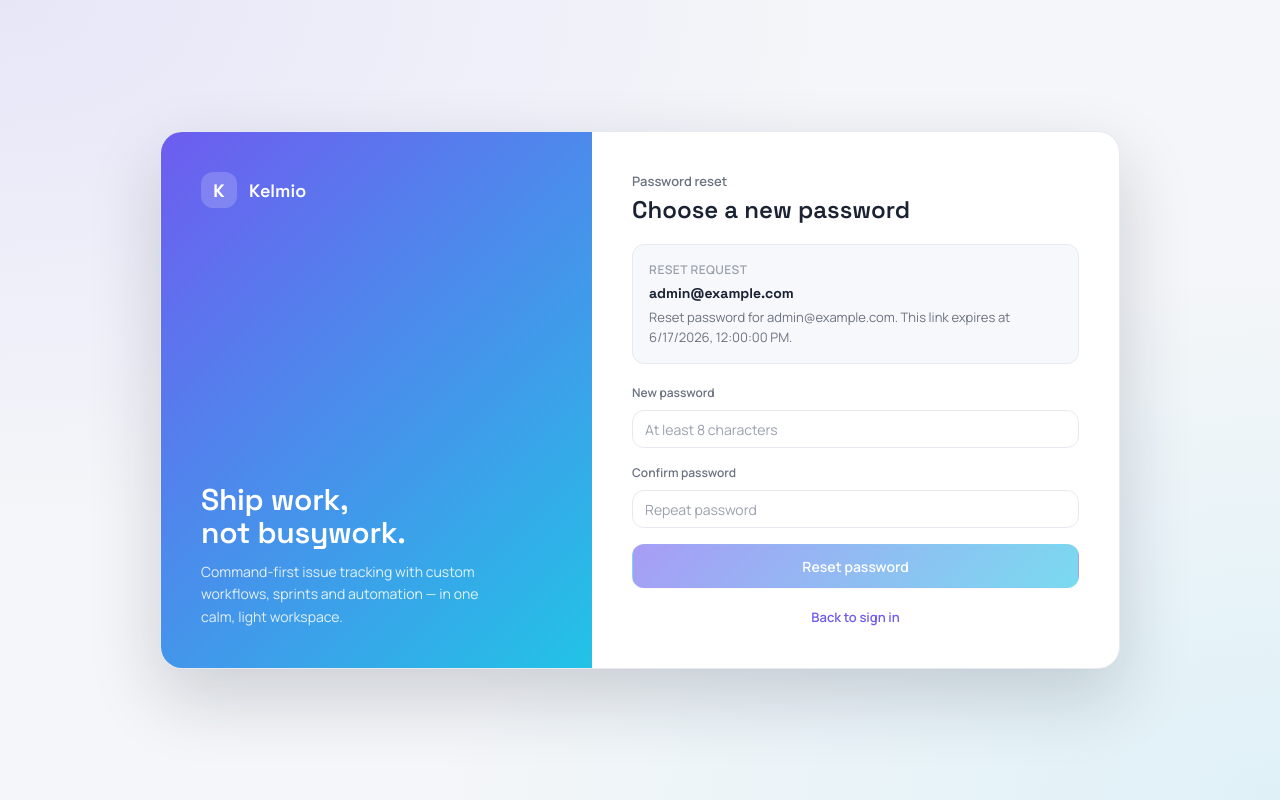
Scenario: reset password screen loads preview and validates password confirmation
The image size is (1280, 800).
Expected: the text "admin@example.com" is shown, [649,284,794,302]
Step 1. Type "new-password" into the password field labelled "New password" → point(856, 429), box [632,410,1079,448]
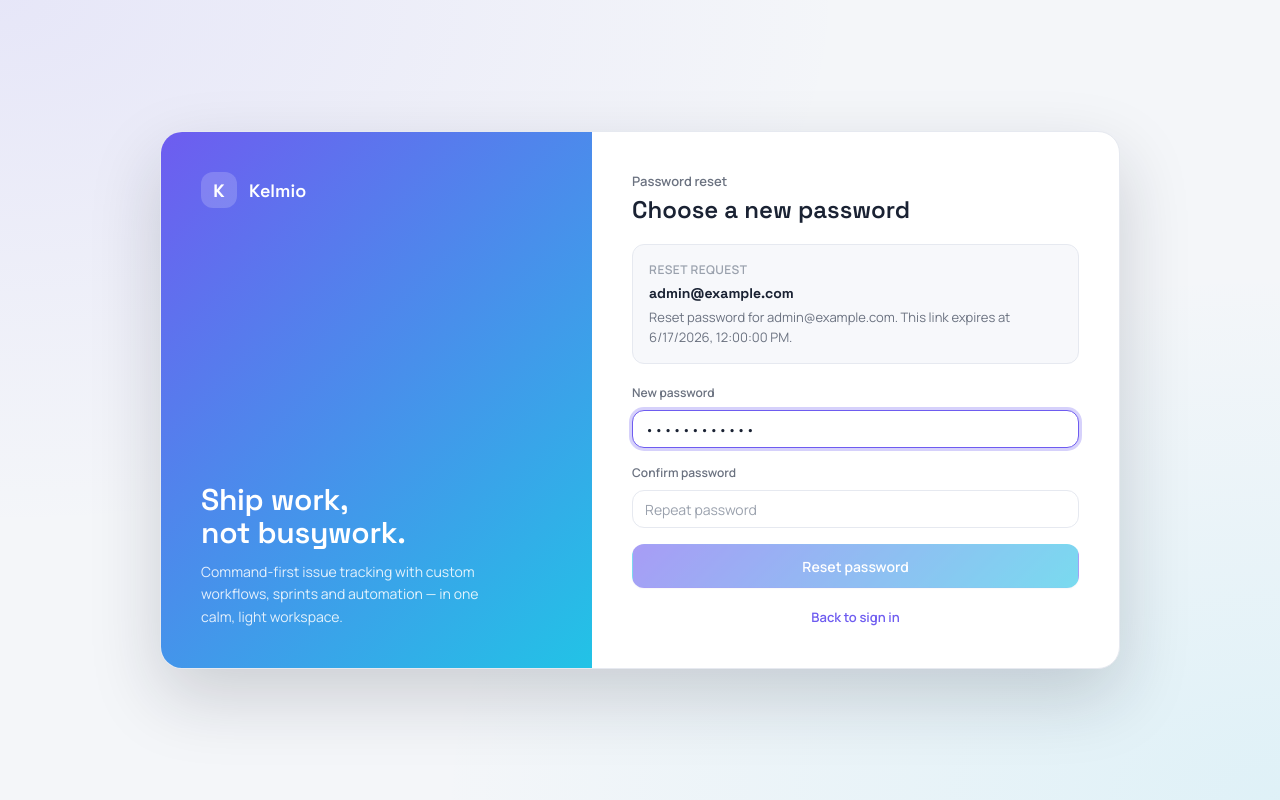
Step 2. Type "other-password" into the password field labelled "Confirm password" → point(856, 509), box [632,490,1079,528]
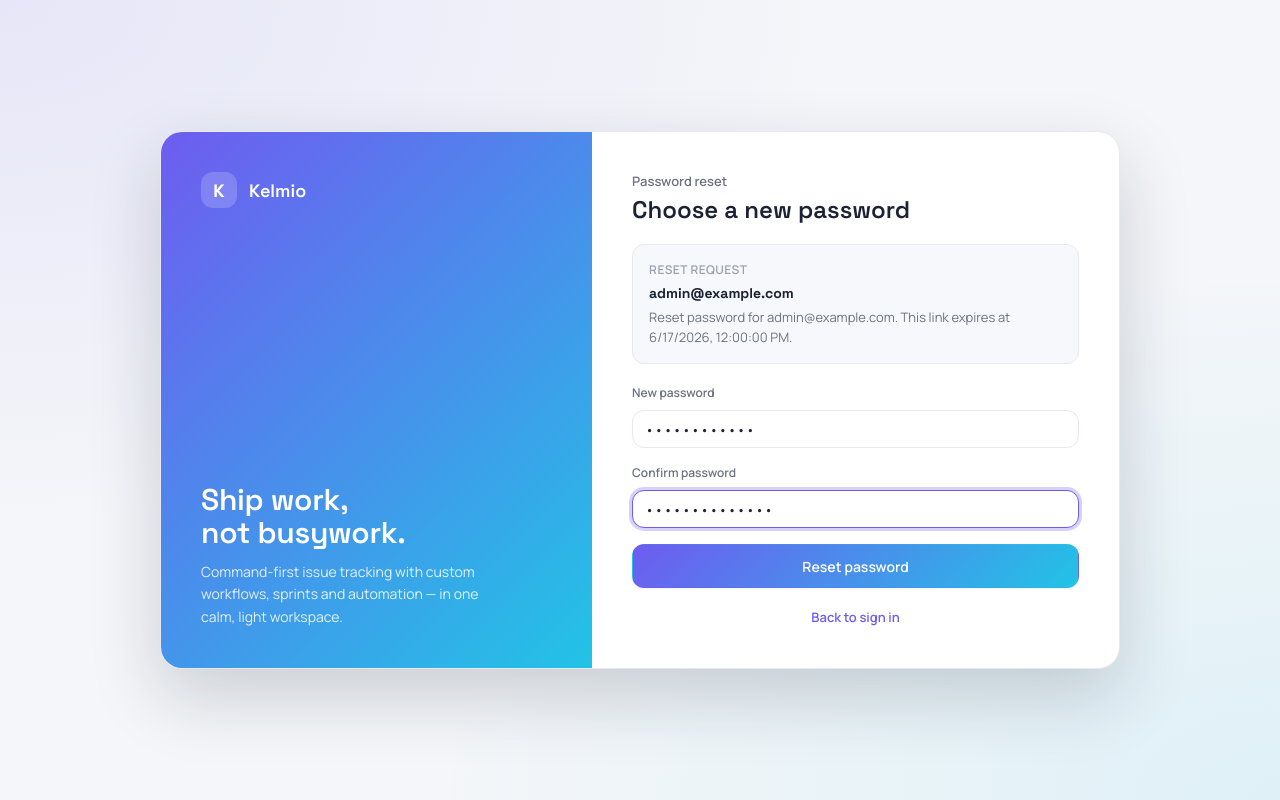
Step 3. Click the button "Reset password" → point(856, 566), box [632,544,1079,588]
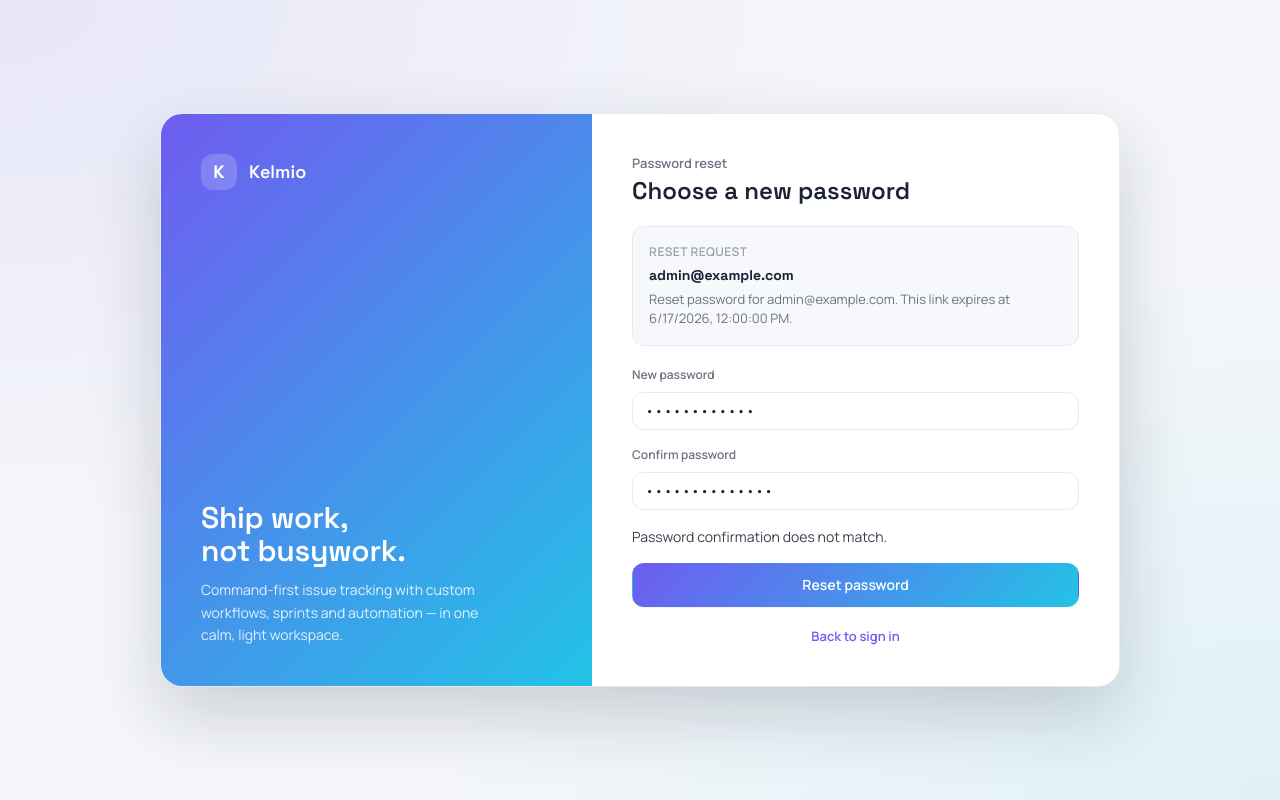
Now the message reads "Password confirmation does not match.", box [632,527,887,546]
